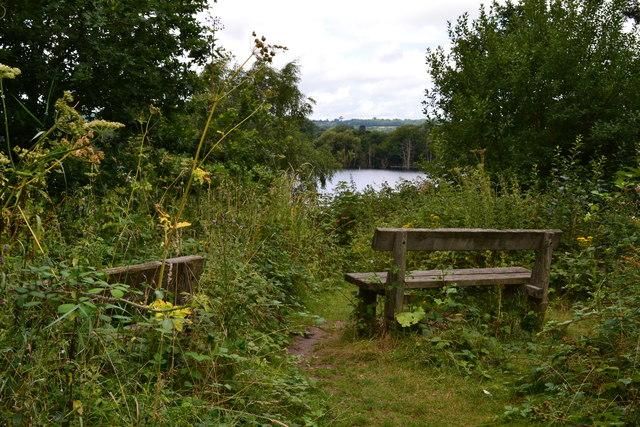overgrown grass: (0, 174, 318, 426), (323, 169, 639, 301), (381, 282, 639, 426), (0, 93, 180, 268), (409, 251, 534, 269)
